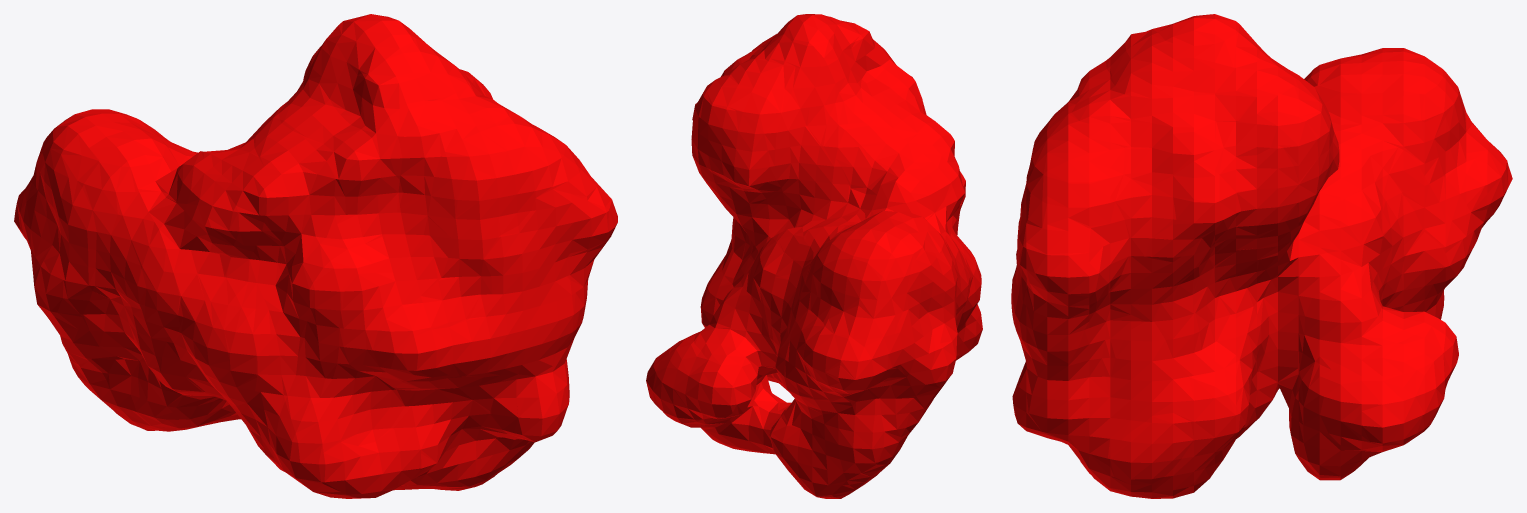
Rendered from glpC_coarse.dae.
3 views of the same model, side by side, from view 1: azimuth 30°, elevation 25°; view 2: azimuth 150°, elevation 25°; view 3: azimuth 270°, elevation 25° (orthographic). The views are drawn at different scales.
Visible parts, largest first — view 1: glpC; view 2: glpC; view 3: glpC.
Boxes of the visible parts, bbox=[...] form: glpC: bbox=[14, 14, 617, 498]; glpC: bbox=[646, 14, 982, 498]; glpC: bbox=[1011, 14, 1512, 498].
Bounding box in the file's own units: 60.11 × 62.29 × 63.07.
